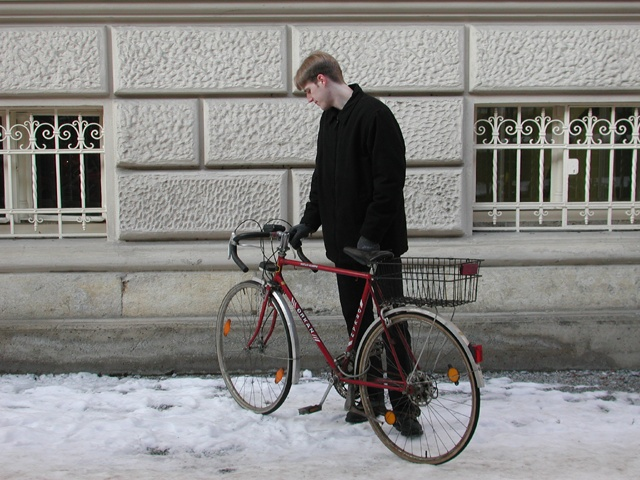person: (280, 45, 429, 441)
